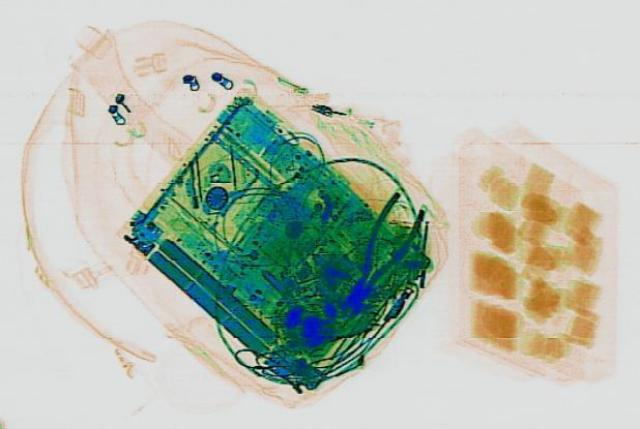Pliers: (326, 189, 434, 312)
